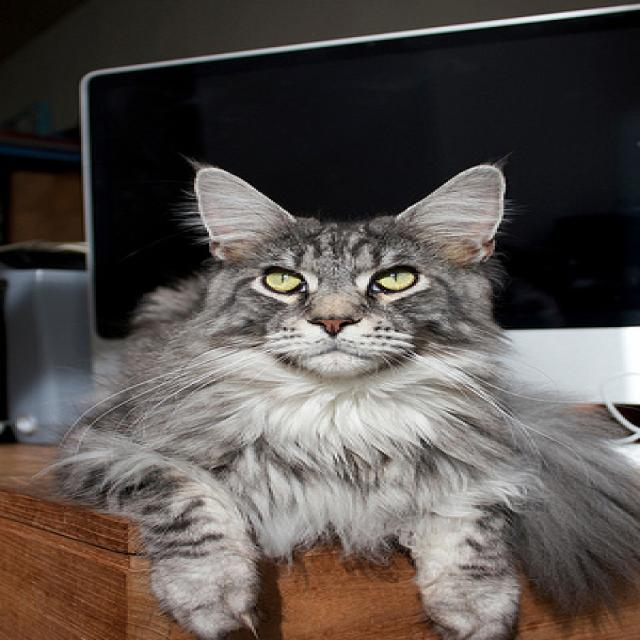Maine Coon: (40, 156, 640, 639)
